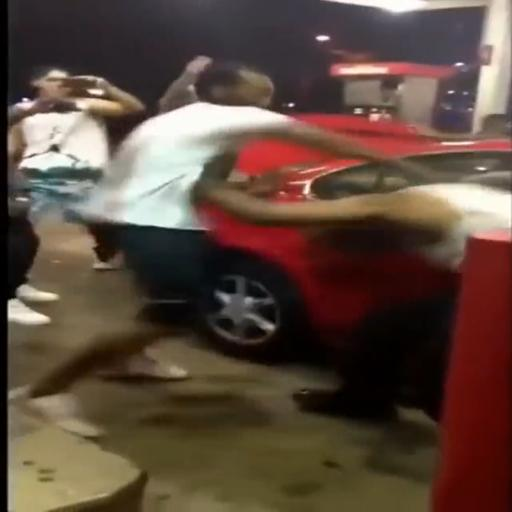violencia: (64, 56, 512, 354)
